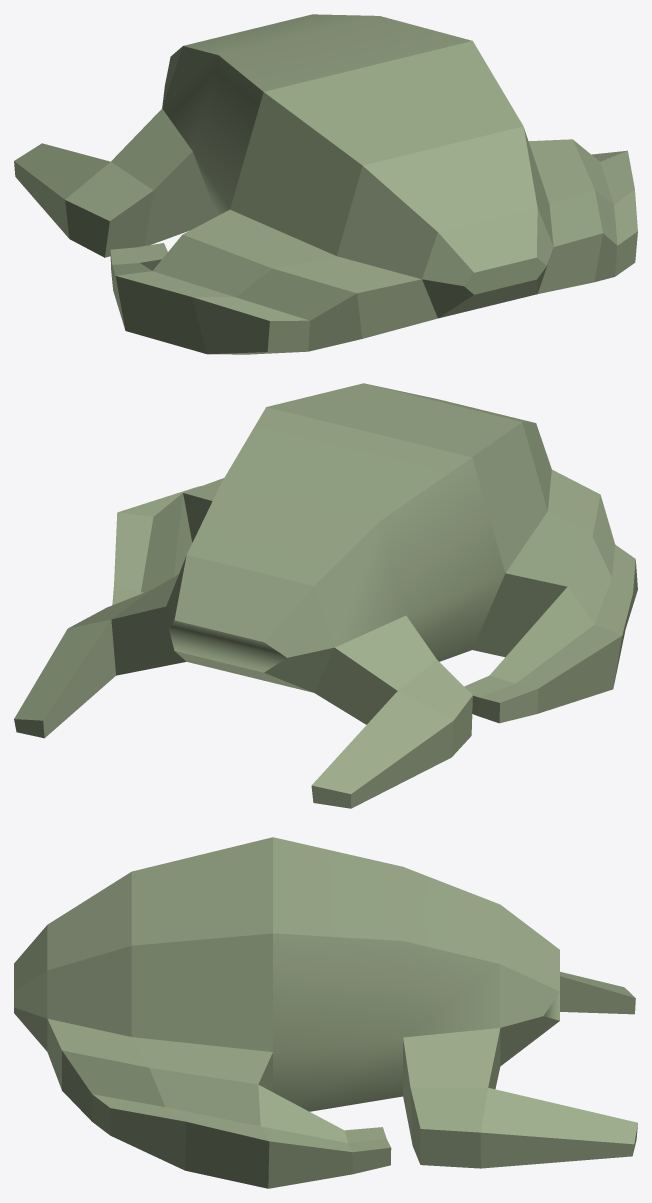
The model's file is FrogGameDoneWithoutFInishedTexture.fbx.
The picture shows the model from 3 angles, top to bottom: view 1: azimuth 30°, elevation 25°; view 2: azimuth 150°, elevation 25°; view 3: azimuth 270°, elevation 25°; orthographic projection. The views are drawn at different scales.
Visible parts, largest first — view 1: pCube1; view 2: pCube1; view 3: pCube1.
Boxes of the visible parts, x1,y1,x2,y2 form: pCube1: (14, 14, 637, 354); pCube1: (14, 383, 637, 808); pCube1: (14, 837, 637, 1188).
Size of the model in its own units: 0.0287 by 0.0111 by 0.0321.
